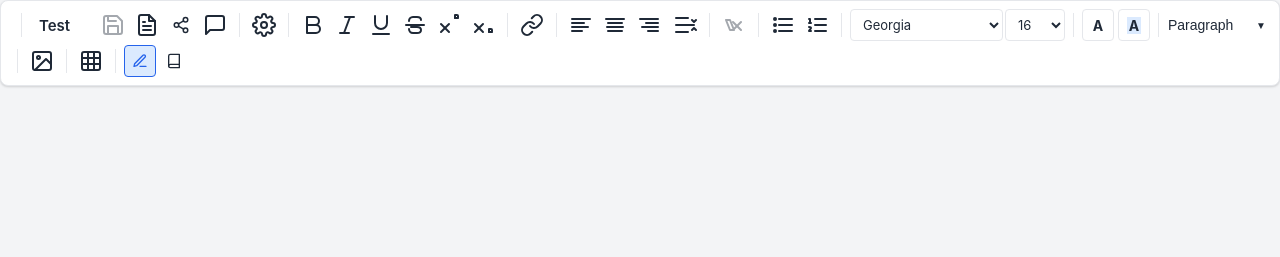
it: Toolbar line spacing popup › closes popup after selecting a preset
Click the button named "Line spacing". click: [685, 25]
box: [669,9,701,41]
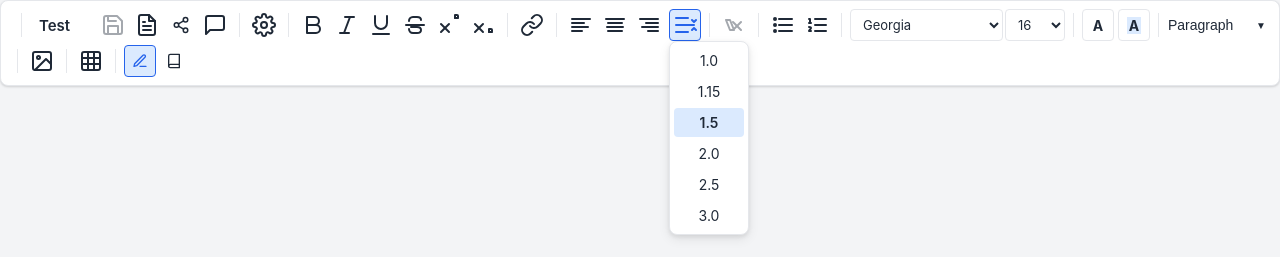
Expected: the button "1.5" is shown
Click the button "1.5". click: [709, 122]
box: [674,108,744,137]
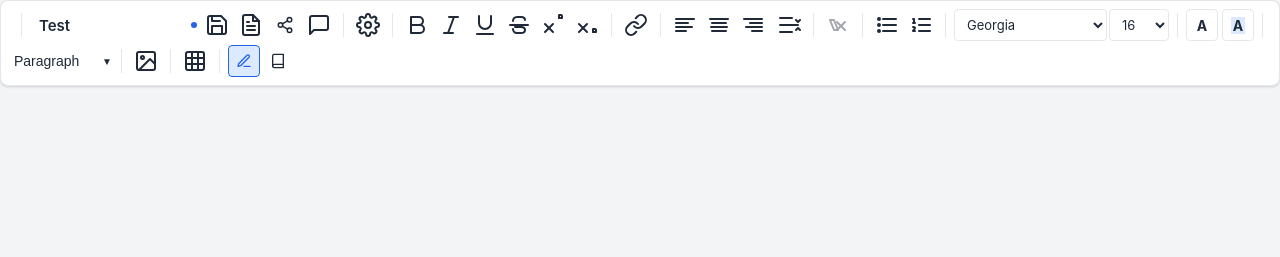
Expected: the button "1.5" is gone
